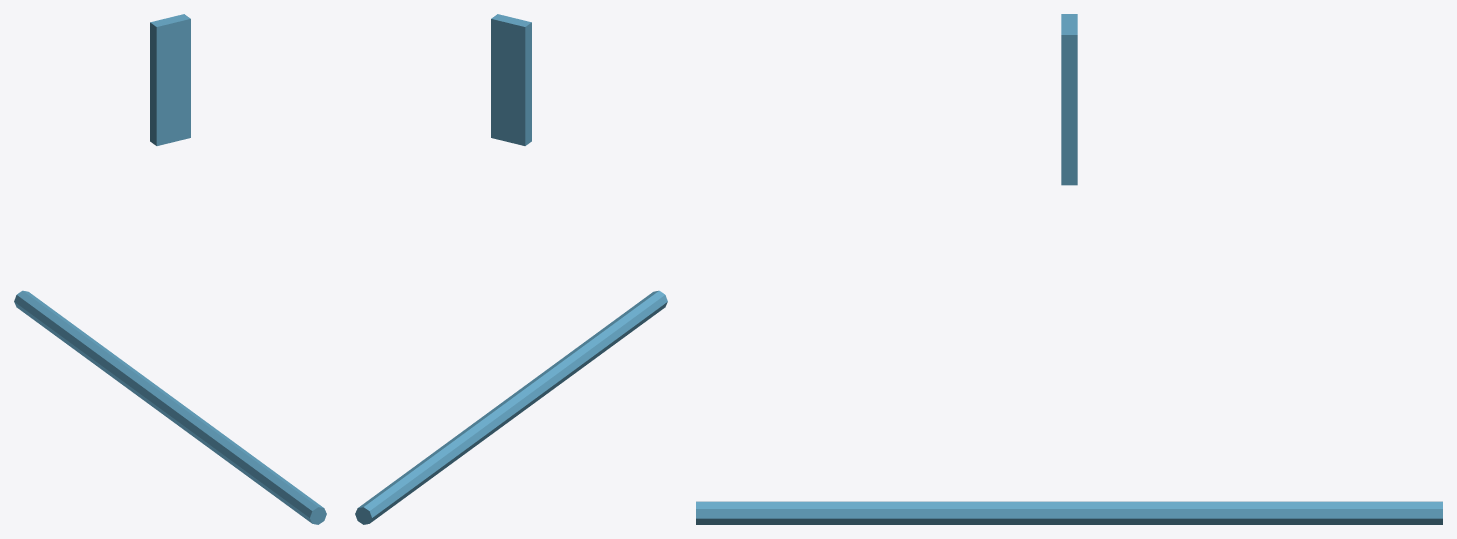
The model's file is toothbrush.glb.
The picture shows the model from 3 angles, left to right: view 1: azimuth 30°, elevation 25°; view 2: azimuth 150°, elevation 25°; view 3: azimuth 270°, elevation 25°; orthographic projection. The views are drawn at different scales.
Visible parts, largest first — view 1: geometry_0; view 2: geometry_0; view 3: geometry_0.
Part boxes in pixels (left/top/right/bottom): geometry_0: left=14, top=14, right=326, bottom=524; geometry_0: left=355, top=14, right=667, bottom=524; geometry_0: left=696, top=14, right=1442, bottom=524.
Bounding box in the file's own units: 0.12 × 1.33 × 1.8.
